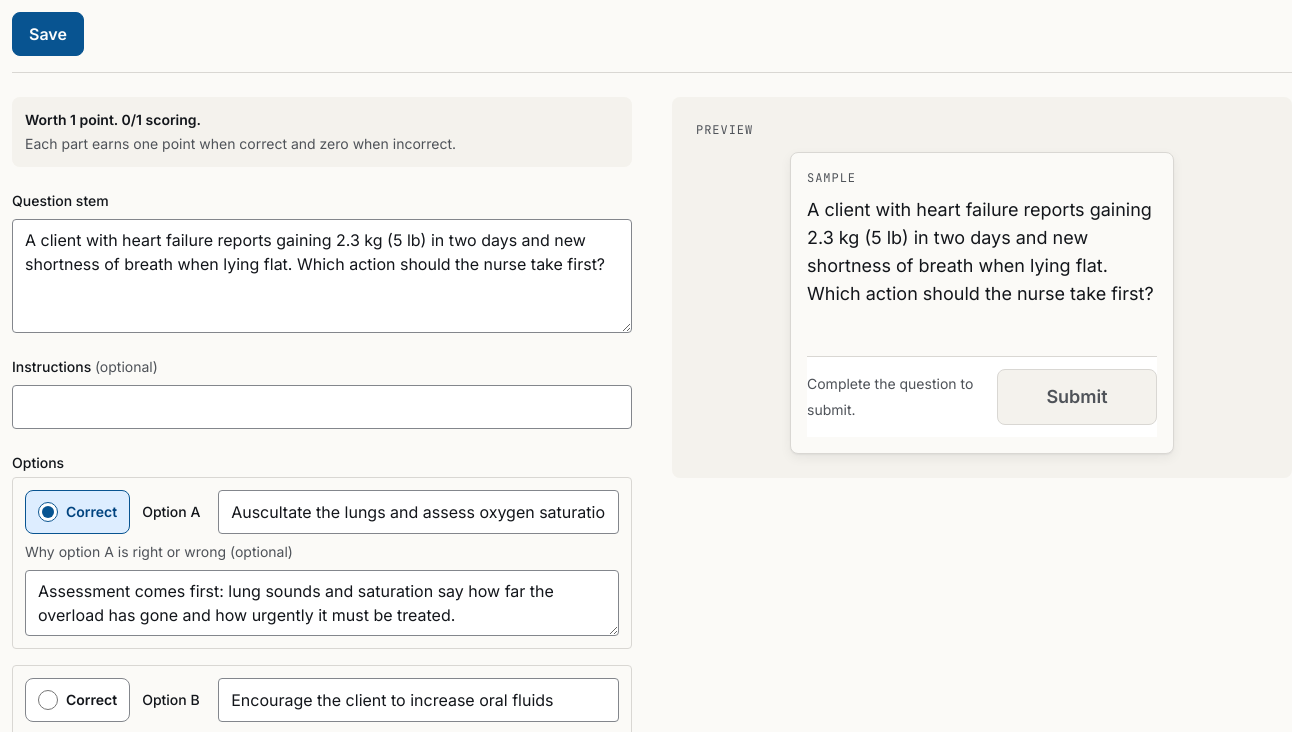
Test case: EditorShell with Save only › says Saved when the host gives no words, and shows a refusal
The image size is (1292, 732).
What coordinates should you click on to do the following:
click the button "Save"
I would click on:
 (48, 34)
Its box is [12,12,84,56].
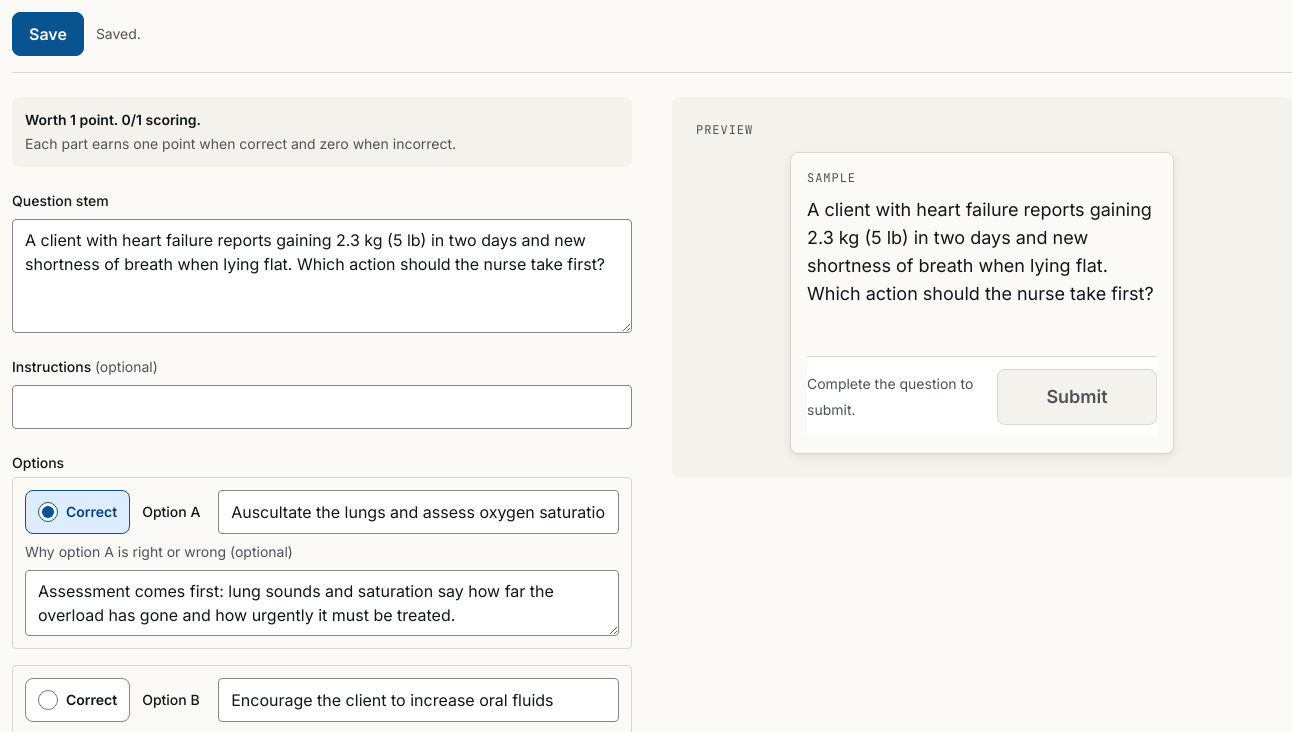
Expected: the message reads "Saved.", [96,25,141,42]
What coordinates should you click on to do the following:
click the button "Save"
I would click on:
 (48, 34)
Its box is [12,12,84,56].
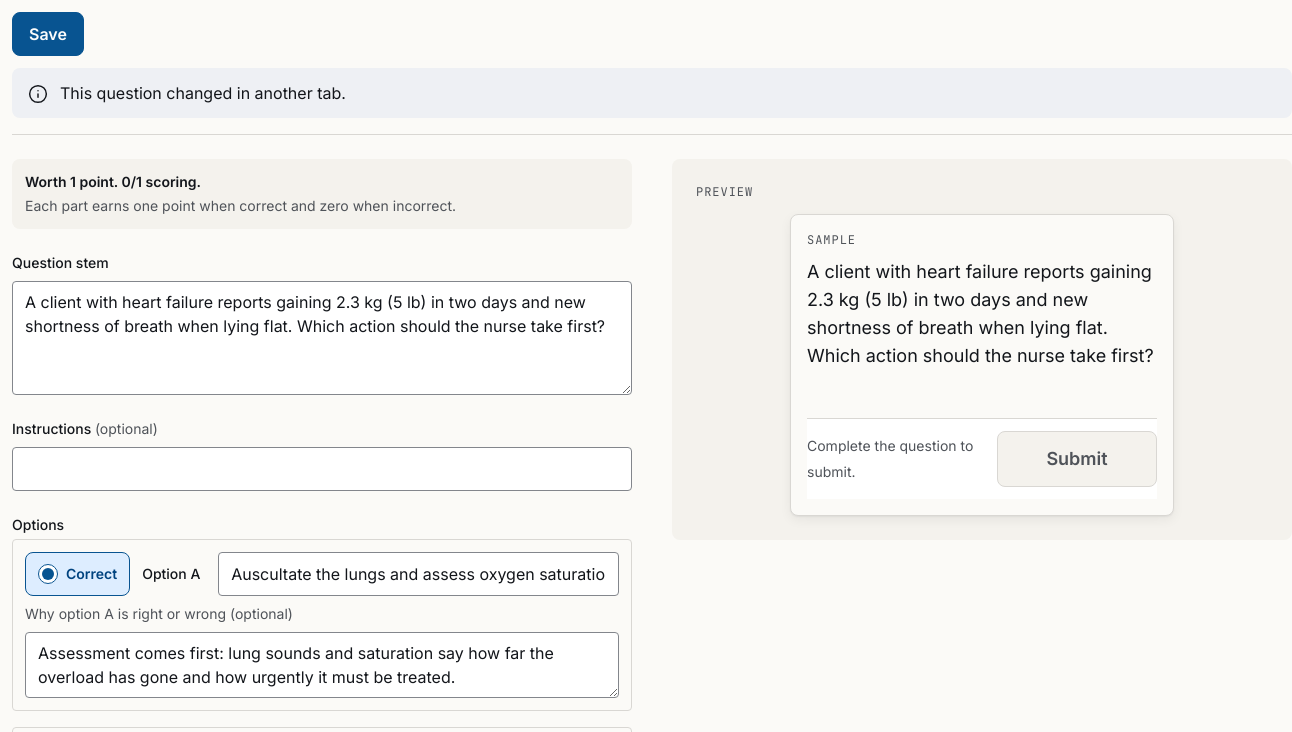
Expected: the message reads "This question changed in another tab.", [60,83,346,103]
